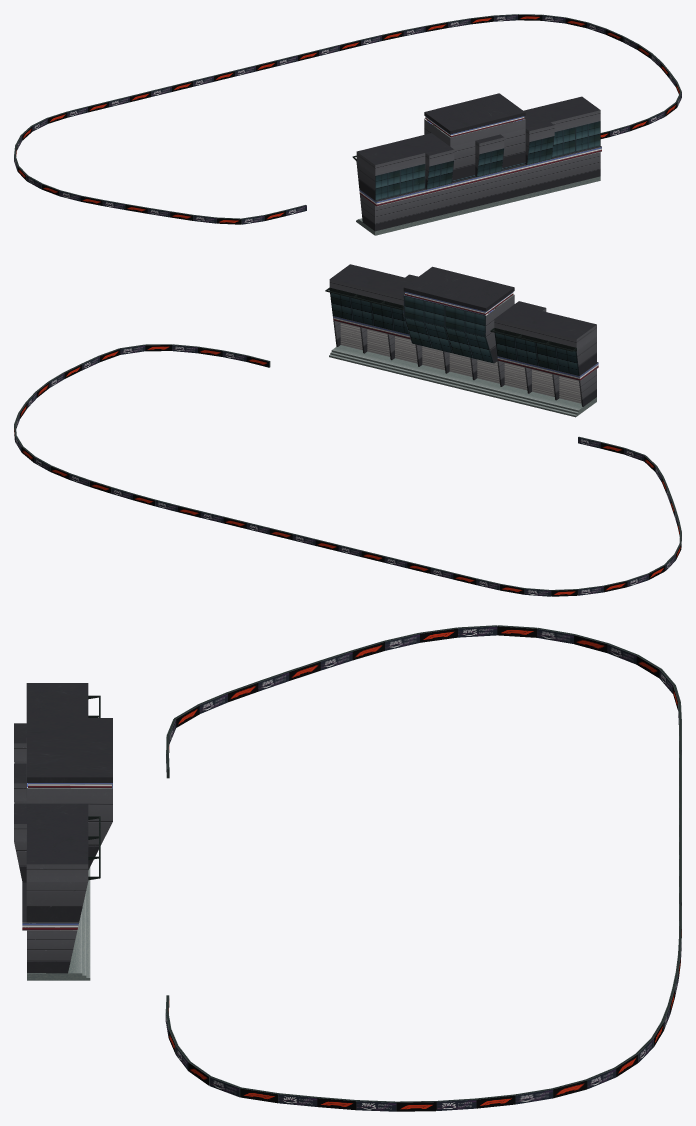
The model's file is Spain_track_collision.dae.
3 renders of one model, top to bottom at view 1: azimuth 30°, elevation 25°; view 2: azimuth 150°, elevation 25°; view 3: azimuth 270°, elevation 25°, orthographic. The views are drawn at different scales.
Visible parts, largest first — view 1: pit_stop, barrier; view 2: pit_stop, barrier; view 3: pit_stop, barrier.
Boxes of the visible parts, x1,y1,x2,y2 form: pit_stop: (352,93,601,235); barrier: (14,14,681,224); pit_stop: (325,264,598,417); barrier: (14,344,681,596); pit_stop: (14,683,112,980); barrier: (165,625,681,1111).
Size of what is drawn, in the model's own units: 20.16 by 11.92 by 2.82.
Materials: 2 (2 with a texture image).
